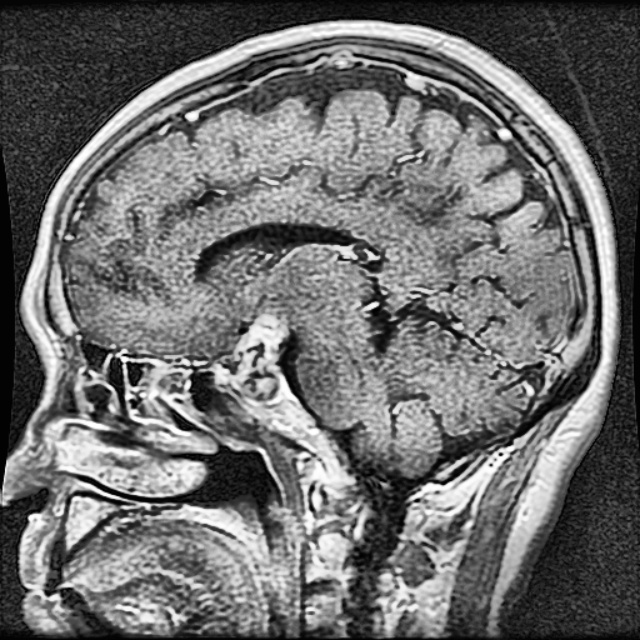Pituitary: (235, 317, 285, 392)
